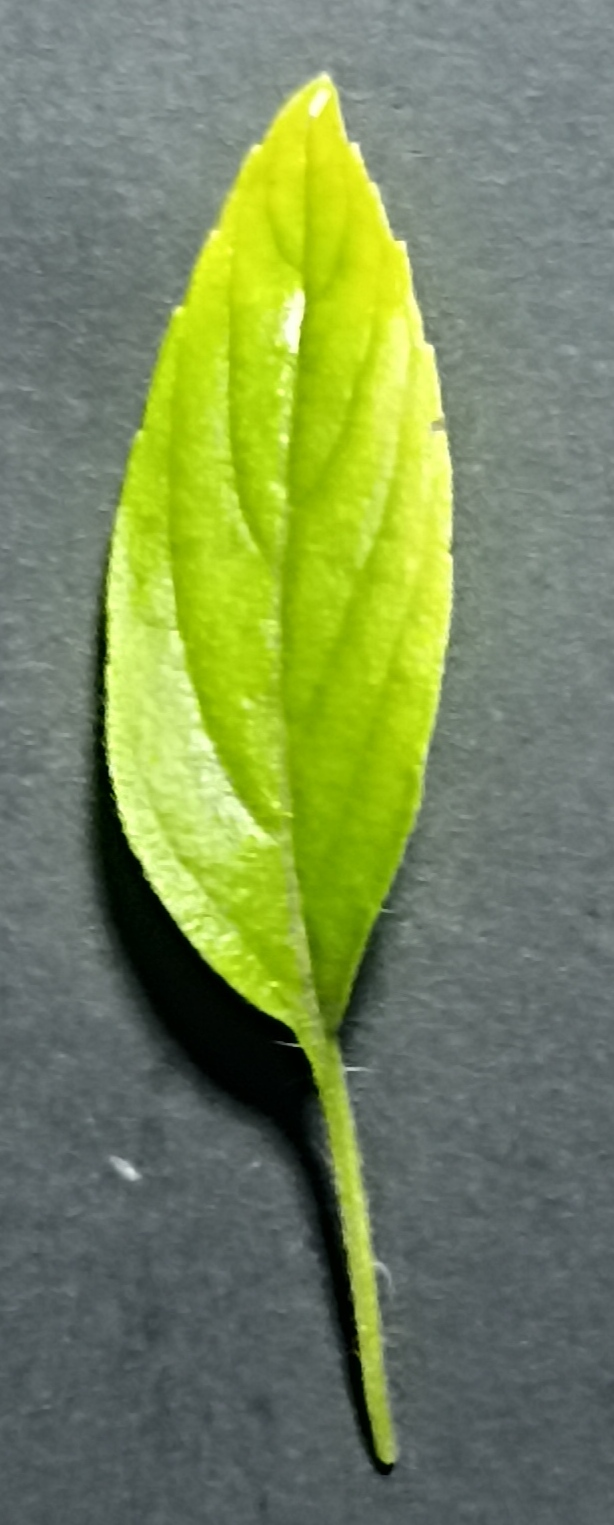Healthy: (88, 64, 469, 1085)
